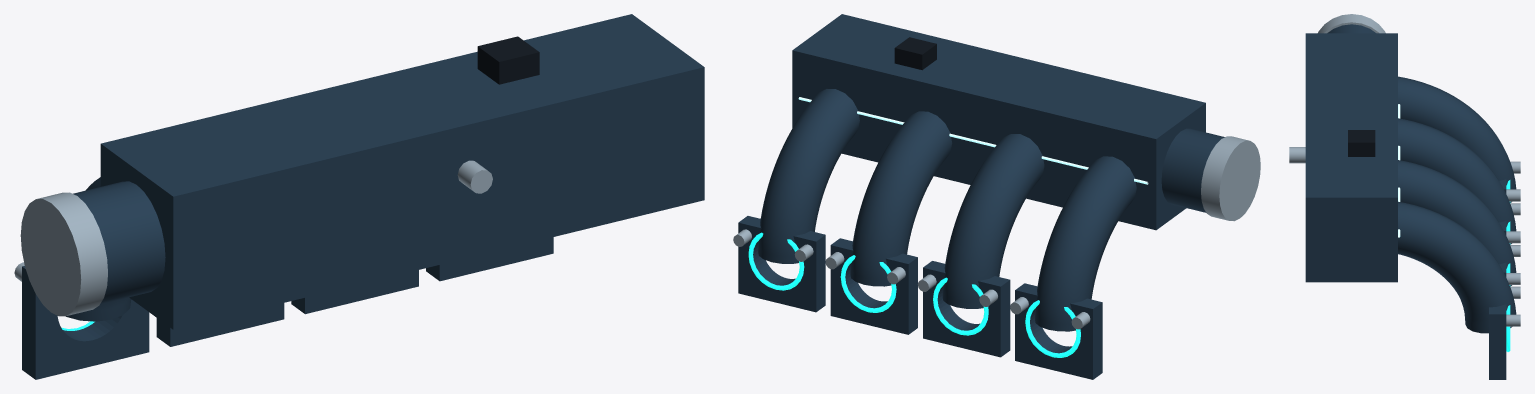
File: coletor.glb
The picture shows the model from 3 angles, left to right: view 1: azimuth 30°, elevation 25°; view 2: azimuth 150°, elevation 25°; view 3: azimuth 270°, elevation 25°; orthographic projection. The views are drawn at different scales.
Parts seen in each view (by area): view 1: Plenum, Corpo_de_borboleta, Flange_1, Entrada_principal, Sensor_generico, Flange_2, Flange_4, Flange_3, Duto_1, Conexao_auxiliar; view 2: Plenum, Duto_3, Duto_2, Duto_1, Duto_4, Flange_4, Flange_1, Flange_2, Flange_3, Corpo_de_borboleta, Entrada_principal, Sensor_generico (+5 smaller); view 3: Plenum, Duto_4, Duto_1, Duto_3, Duto_2, Flange_4, Sensor_generico, Corpo_de_borboleta, Entrada_principal, Conexao_auxiliar.
Boxes of the visible parts, x1=… form: Plenum: x1=100, y1=14, x2=704, y2=329; Corpo_de_borboleta: x1=20, y1=192, x2=107, y2=316; Flange_1: x1=22, y1=266, x2=149, y2=379; Entrada_principal: x1=73, y1=181, x2=165, y2=304; Sensor_generico: x1=477, y1=36, x2=539, y2=84; Flange_2: x1=156, y1=303, x2=284, y2=346; Flange_4: x1=426, y1=237, x2=553, y2=281; Flange_3: x1=291, y1=270, x2=418, y2=314; Duto_1: x1=66, y1=177, x2=131, y2=321; Conexao_auxiliar: x1=457, y1=160, x2=492, y2=193; Plenum: x1=792, y1=14, x2=1205, y2=230; Duto_3: x1=850, y1=111, x2=952, y2=286; Duto_2: x1=942, y1=134, x2=1044, y2=308; Duto_1: x1=1035, y1=156, x2=1136, y2=331; Duto_4: x1=758, y1=89, x2=859, y2=263; Flange_4: x1=738, y1=216, x2=825, y2=312; Flange_1: x1=1015, y1=283, x2=1102, y2=379; Flange_2: x1=923, y1=261, x2=1010, y2=357; Flange_3: x1=830, y1=238, x2=917, y2=334; Corpo_de_borboleta: x1=1201, y1=136, x2=1260, y2=221; Entrada_principal: x1=1161, y1=128, x2=1224, y2=212; Sensor_generico: x1=894, y1=37, x2=936, y2=70; Plenum: x1=1305, y1=33, x2=1397, y2=282; Duto_4: x1=1398, y1=201, x2=1516, y2=333; Duto_1: x1=1398, y1=76, x2=1516, y2=202; Duto_3: x1=1398, y1=160, x2=1516, y2=286; Duto_2: x1=1398, y1=118, x2=1516, y2=244; Flange_4: x1=1489, y1=304, x2=1506, y2=379; Sensor_generico: x1=1348, y1=130, x2=1375, y2=156; Corpo_de_borboleta: x1=1318, y1=14, x2=1385, y2=33; Entrada_principal: x1=1327, y1=24, x2=1375, y2=33; Conexao_auxiliar: x1=1289, y1=147, x2=1305, y2=163.
Bounding box in the file's own units: 4.12 × 2 × 2.11.
